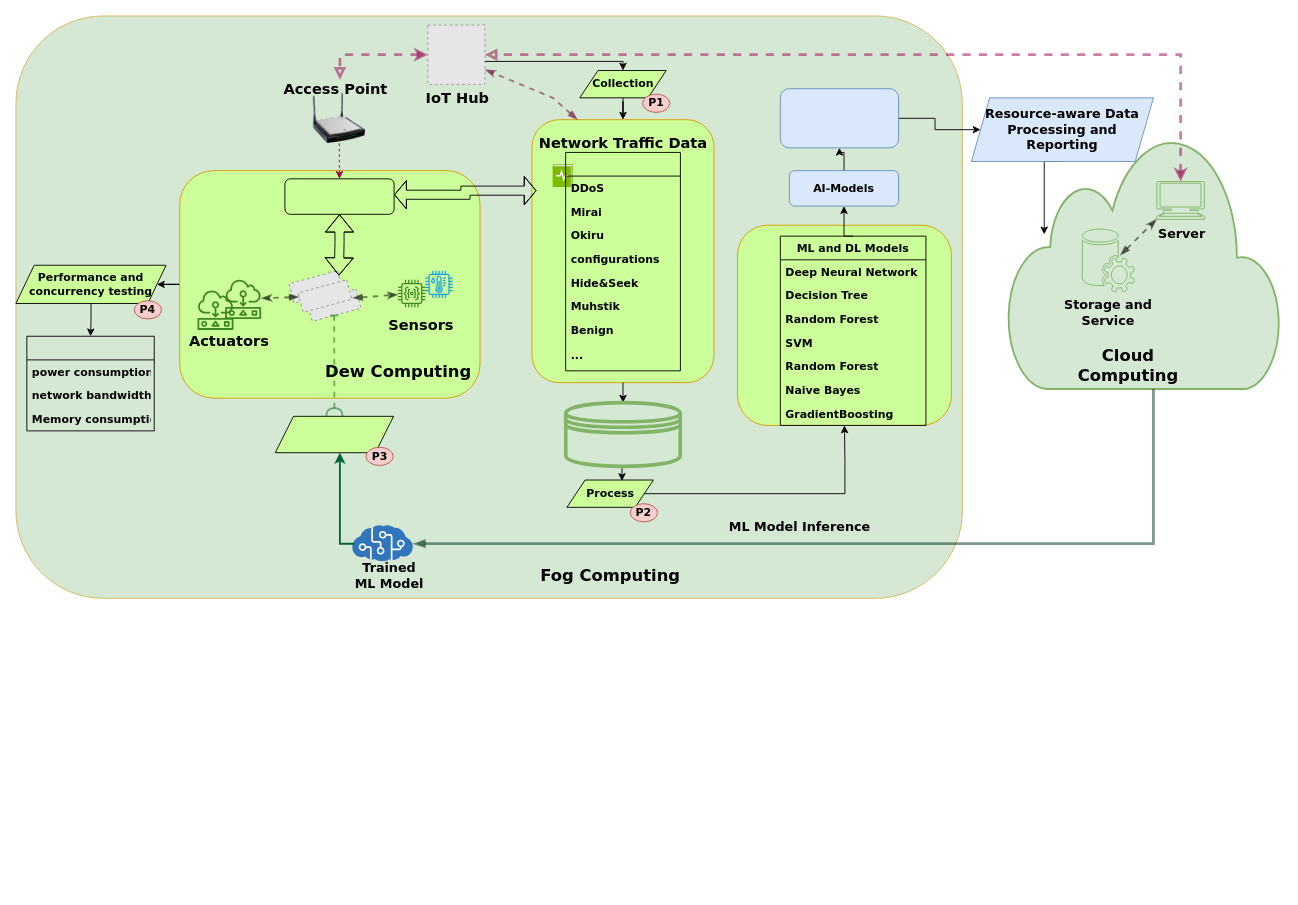
The diagram is 1298 pixels wide and 905 high, and some of its shapes have lost their labels. Grey dashed boxes stand in for pictures. The box of each missing label's shape, as (x1, y1, x2, y2) in pixels:
Dataset: (563, 400, 682, 468)
IoT Interface: (284, 178, 394, 214)
Malware Attacks: (565, 152, 680, 371)
Measures: (26, 335, 154, 431)
ML Model Deployment: (274, 415, 394, 453)
Model Types tensorflow (.h5) JSON Protobuf: (779, 88, 899, 148)
